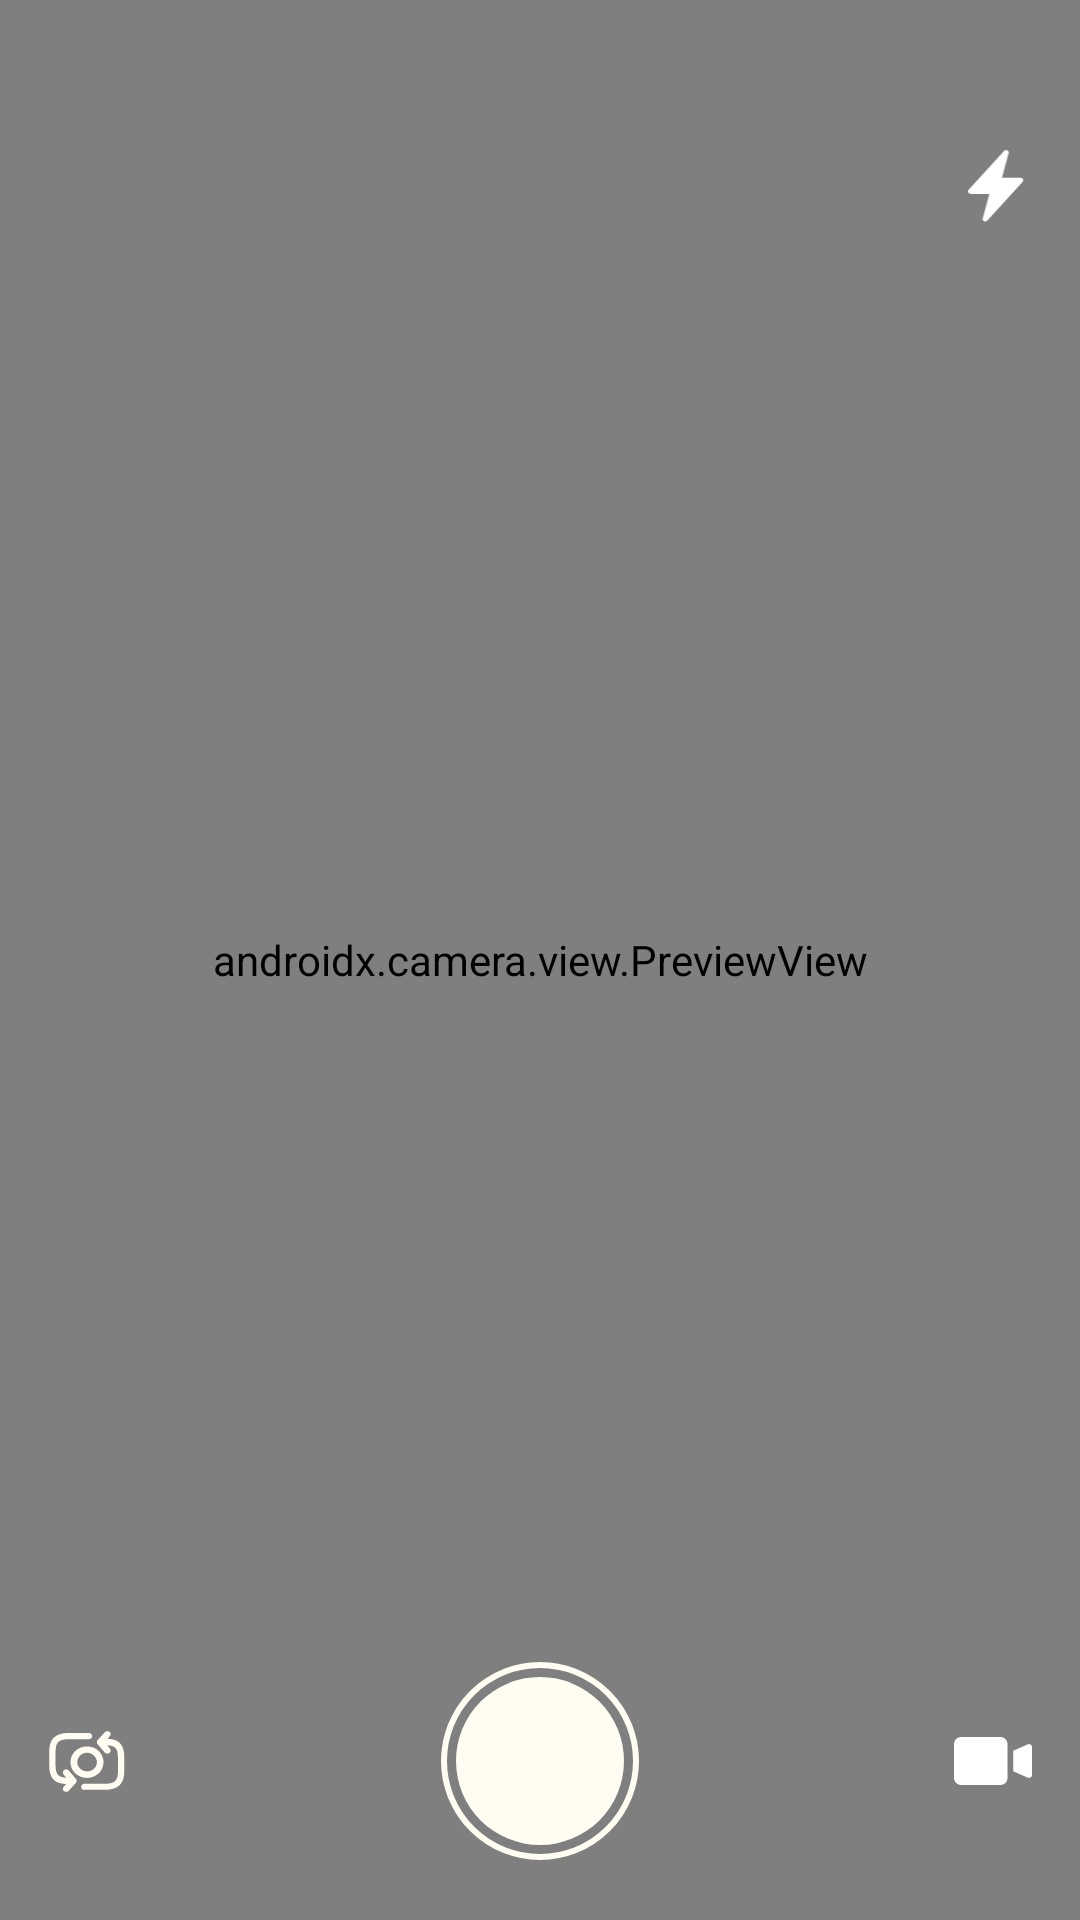

Icons on this 1080px×1920px Android screen, each with its box as (x1, y1, x2, y2):
flash: (968, 150, 1024, 222)
flip: (49, 1731, 125, 1792)
shutter: (441, 1662, 639, 1860)
video: (954, 1737, 1032, 1785)
